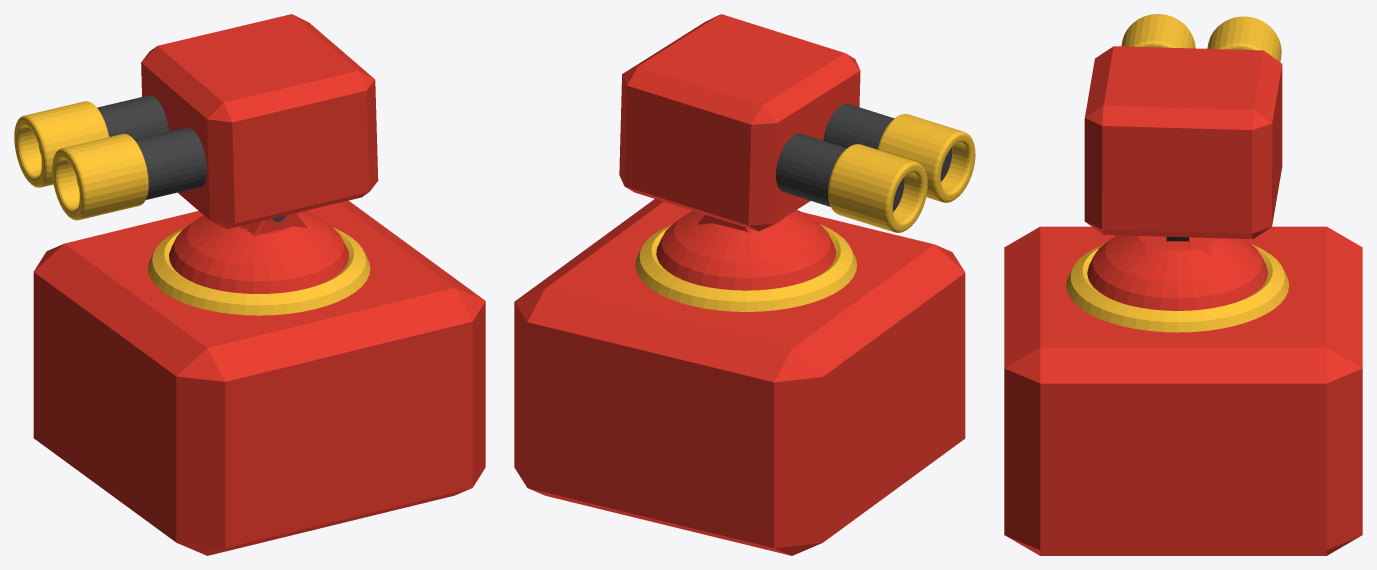
Rendered from turret_gamma.fbx.
The picture shows the model from 3 angles, left to right: view 1: azimuth 30°, elevation 25°; view 2: azimuth 150°, elevation 25°; view 3: azimuth 270°, elevation 25°; orthographic projection.
Parts seen in each view (by area): view 1: Socle, Base canon, Sphere, embout canon gauche, Torus, embout canon gauche.001, canon gauche, canon droit, Pivot rouge; view 2: Socle, Base canon, Sphere, embout canon gauche.001, Torus, embout canon gauche, canon droit, canon gauche; view 3: Socle, Base canon, Sphere, Torus, embout canon gauche.001, embout canon gauche, Pivot rouge.
Boxes of the visible parts, x1,y1,x2,y2 form: Socle: (33,200,485,555); Base canon: (141,14,378,229); Sphere: (169,211,349,293); embout canon gauche: (52,133,148,220); Torus: (148,227,370,315); embout canon gauche.001: (14,101,109,187); canon gauche: (76,127,206,199); canon droit: (38,95,169,153); Pivot rouge: (239,213,307,236); Socle: (514,199,965,555); Base canon: (619,14,860,231); Sphere: (656,210,835,290); embout canon gauche.001: (828,144,927,232); Torus: (635,224,856,311); embout canon gauche: (877,114,975,202); canon droit: (775,133,904,211); canon gauche: (823,103,952,181); Socle: (1004,226,1362,555); Base canon: (1084,46,1282,239); Sphere: (1087,235,1268,310); Torus: (1066,244,1289,332); embout canon gauche.001: (1207,16,1281,61); embout canon gauche: (1121,14,1195,48); Pivot rouge: (1143,236,1211,255).
Size of the model in its own units: 446 by 492 by 381.
